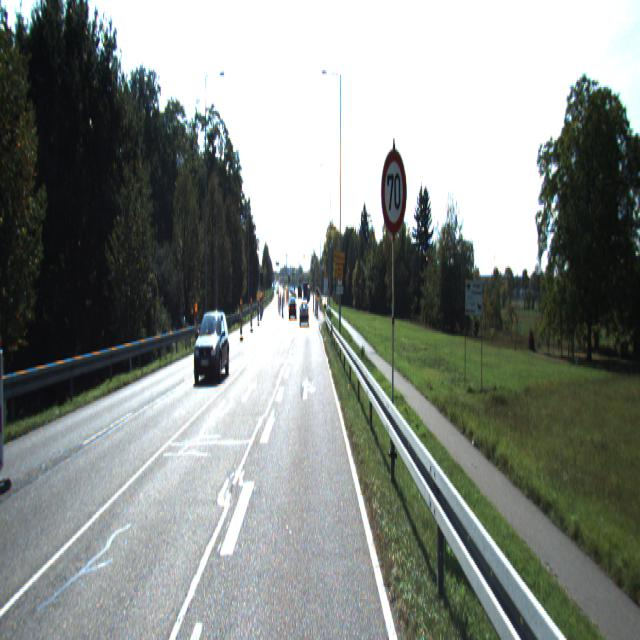Car: (193, 310, 230, 385), (300, 302, 309, 326)
